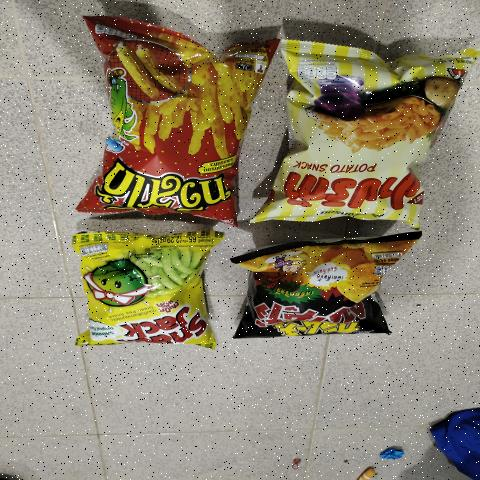karamujo: (256, 256, 372, 330)
paprika: (289, 60, 419, 216)
snack_jack: (89, 239, 203, 342)
twisco: (111, 46, 234, 211)
